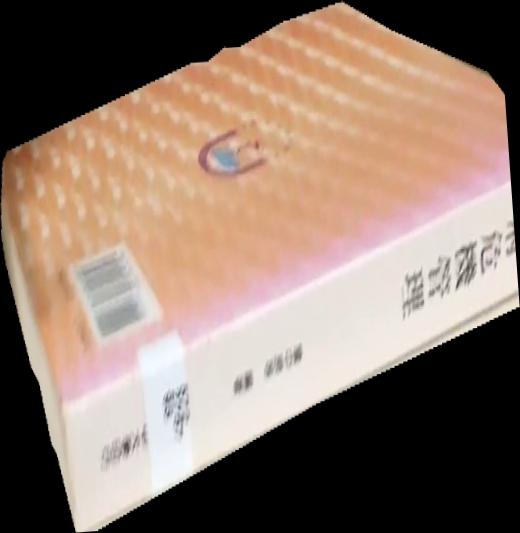flat: (1, 1, 520, 533)
